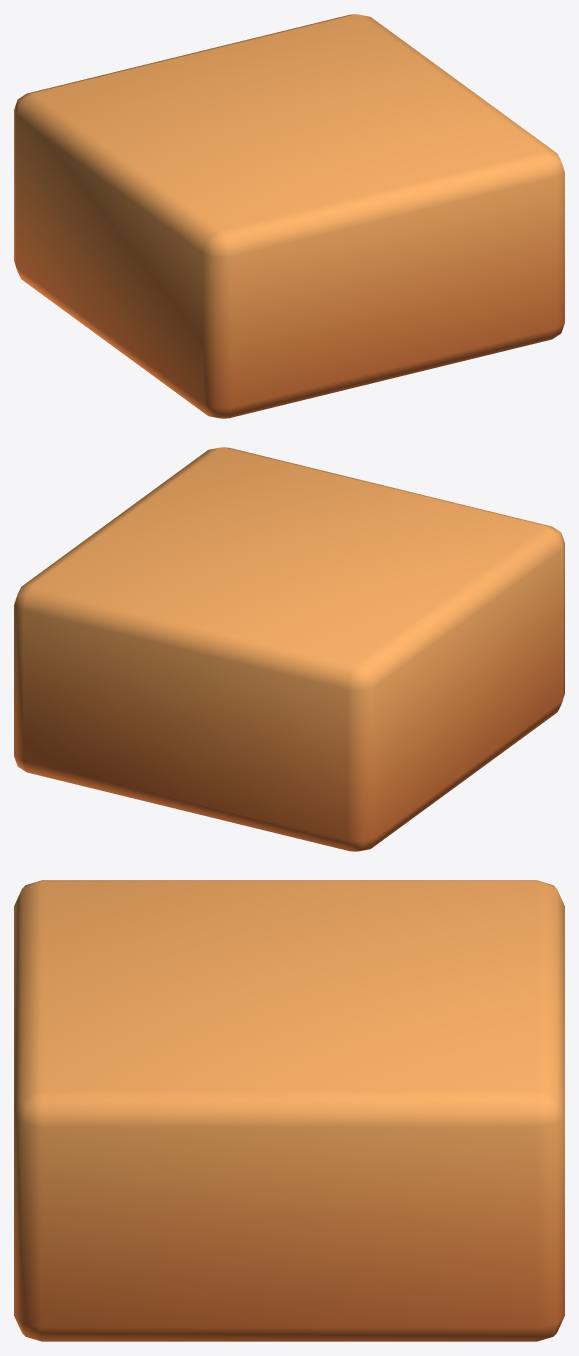
File: 3D_Tile_Ground_02A.glb
The picture shows the model from 3 angles, top to bottom: view 1: azimuth 30°, elevation 25°; view 2: azimuth 150°, elevation 25°; view 3: azimuth 270°, elevation 25°; orthographic projection. The views are drawn at different scales.
Parts seen in each view (by area): view 1: 3D_Tile_Ground_02A; view 2: 3D_Tile_Ground_02A; view 3: 3D_Tile_Ground_02A.
Boxes of the visible parts, x1=… form: 3D_Tile_Ground_02A: x1=14, y1=14, x2=564, y2=418; 3D_Tile_Ground_02A: x1=14, y1=447, x2=564, y2=851; 3D_Tile_Ground_02A: x1=14, y1=880, x2=564, y2=1341.
Bounding box in the file's own units: 2 × 1 × 2.
Materials: 1 (1 with a texture image).
